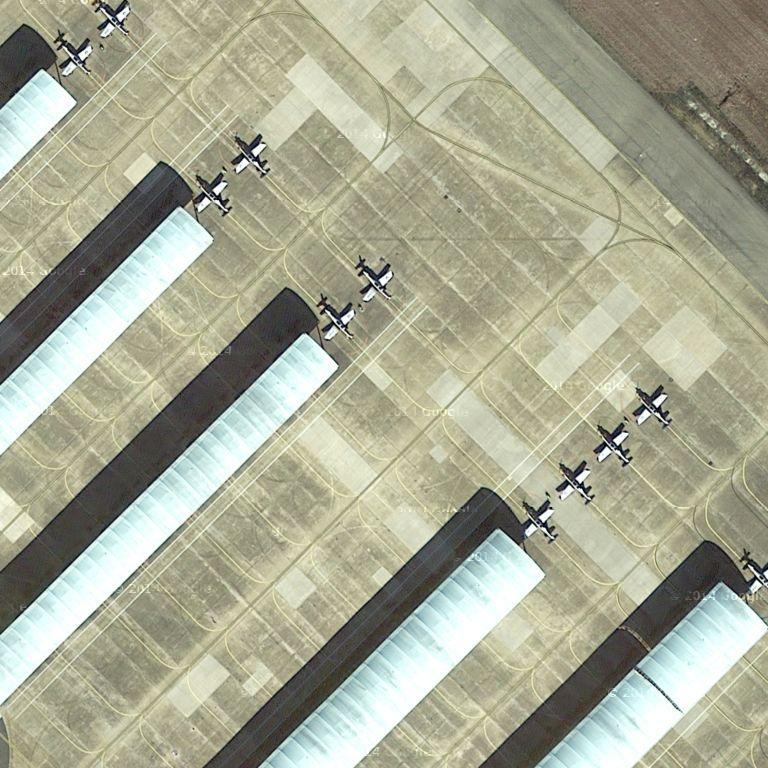plane: (514, 496, 565, 548), (552, 462, 603, 508), (351, 257, 400, 304), (630, 384, 681, 429), (591, 424, 638, 471), (315, 296, 361, 343), (230, 137, 275, 182), (51, 37, 97, 80), (91, 2, 140, 40), (192, 176, 235, 218)
